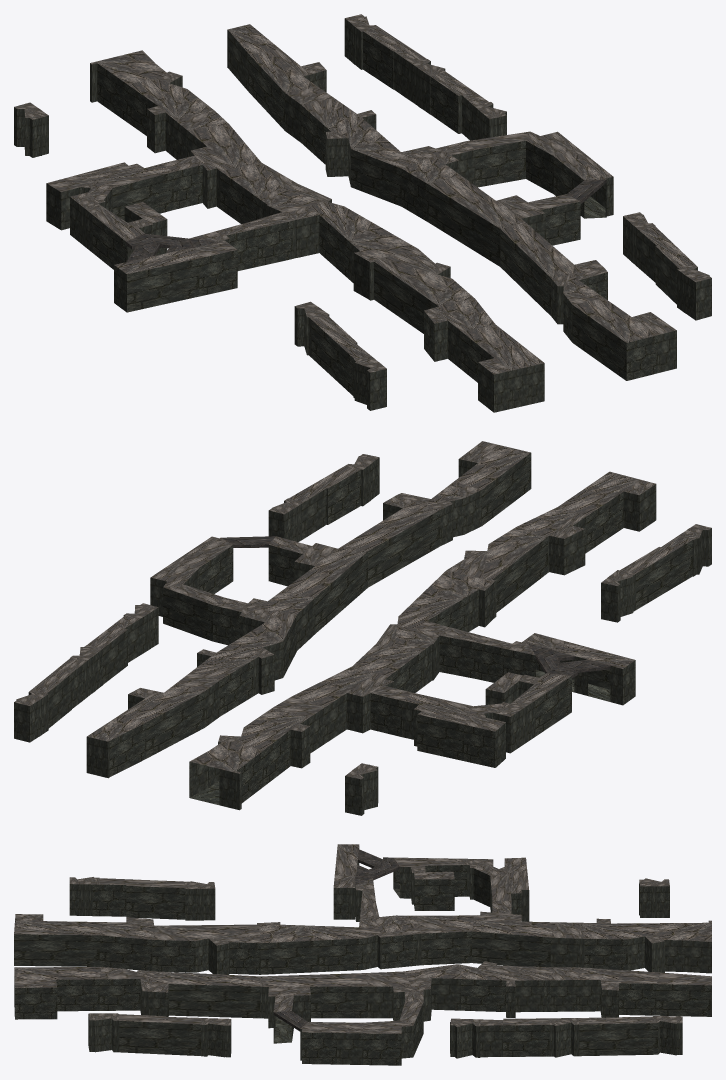
File: canal_ground.glb
The picture shows the model from 3 angles, top to bottom: view 1: azimuth 30°, elevation 25°; view 2: azimuth 150°, elevation 25°; view 3: azimuth 270°, elevation 25°; orthographic projection. The views are drawn at different scales.
Parts seen in each view (by area): view 1: canal_ground0; view 2: canal_ground0; view 3: canal_ground0.
Part boxes in pixels (box(x1,y1,x2,y2)): canal_ground0: box(14, 14, 711, 412); canal_ground0: box(14, 441, 711, 815); canal_ground0: box(14, 844, 711, 1065).
Bounding box in the file's own units: 33.81 × 2.62 × 52.53.
Materials: 1 (1 with a texture image).
